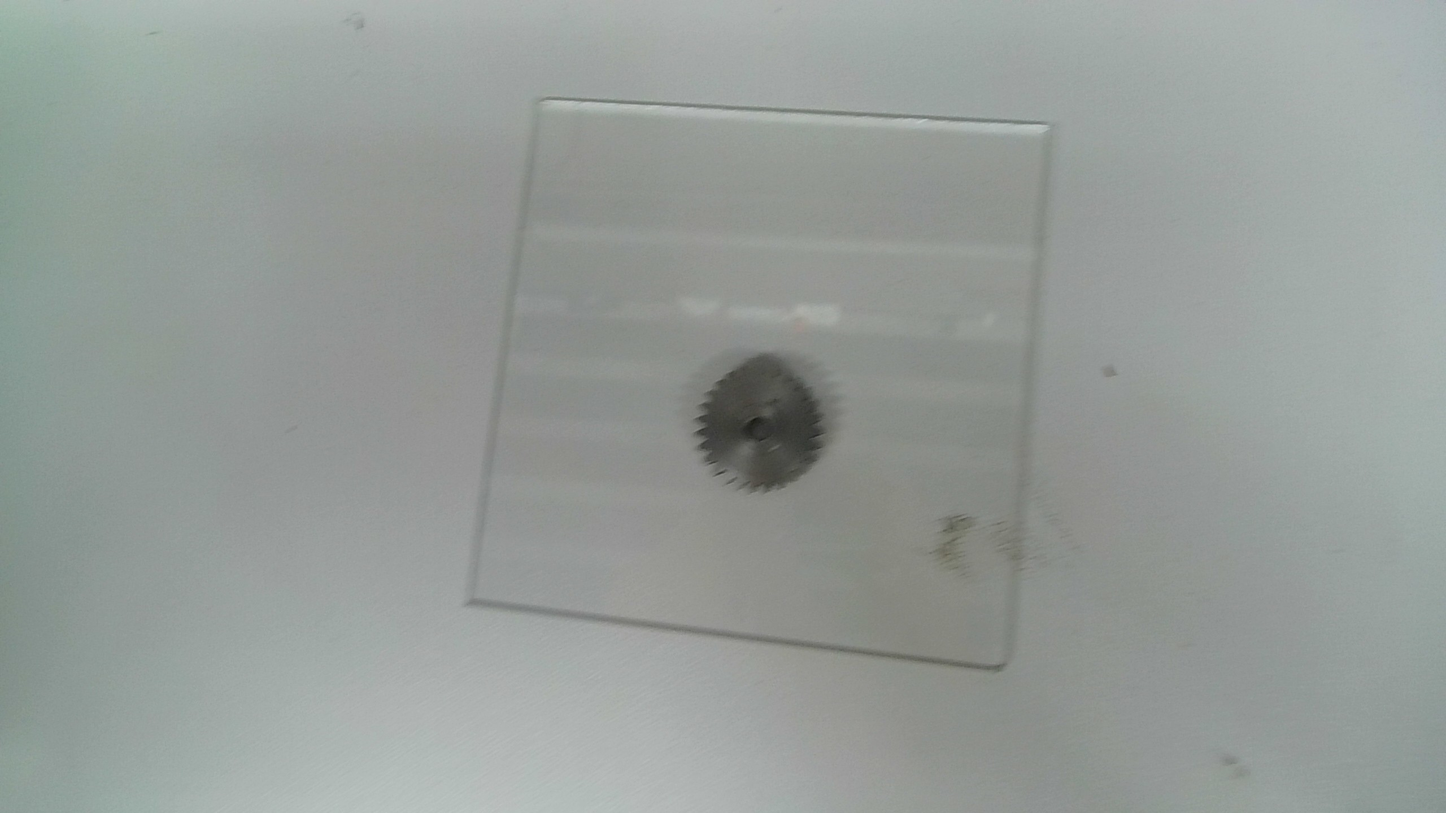gear: (691, 359, 829, 500)
